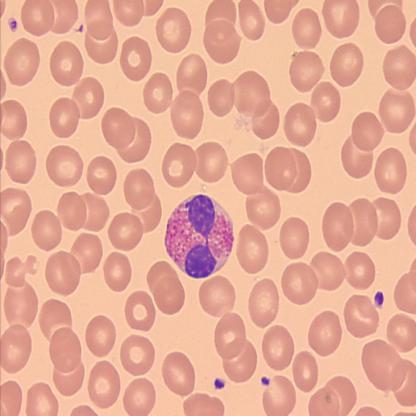Eosinophil: (164, 194, 236, 279)
